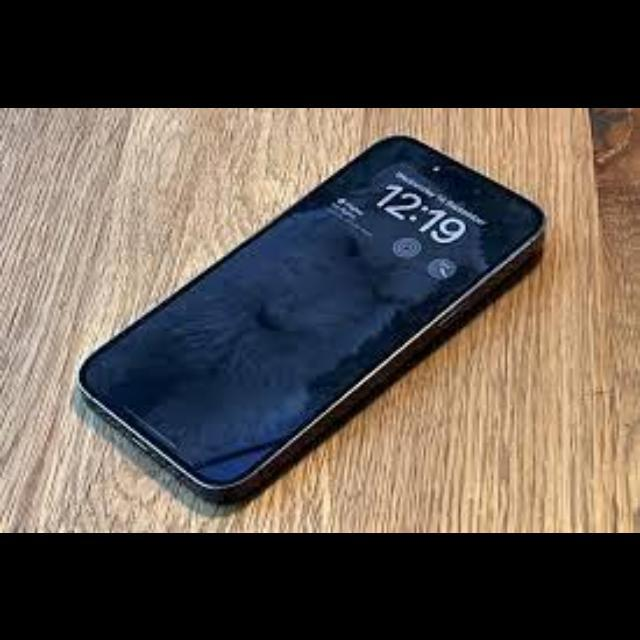Phone: (77, 135, 547, 502)
